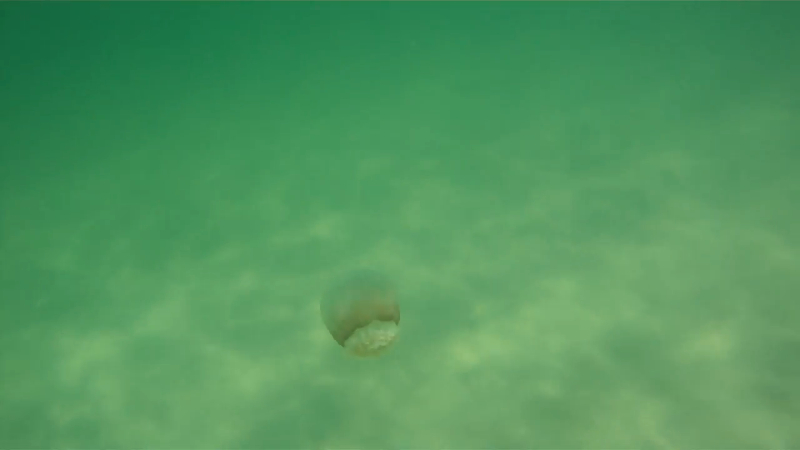yellow jellyfish: (316, 271, 408, 358)
